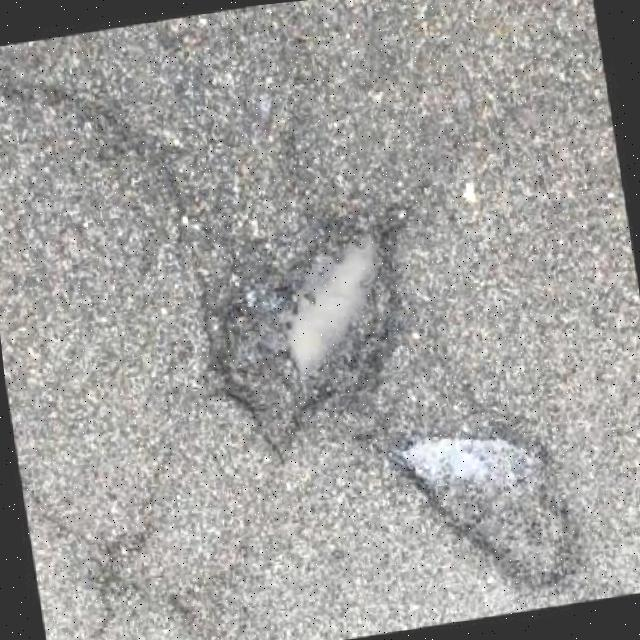Pothole: (205, 201, 409, 460), (384, 428, 579, 585)
